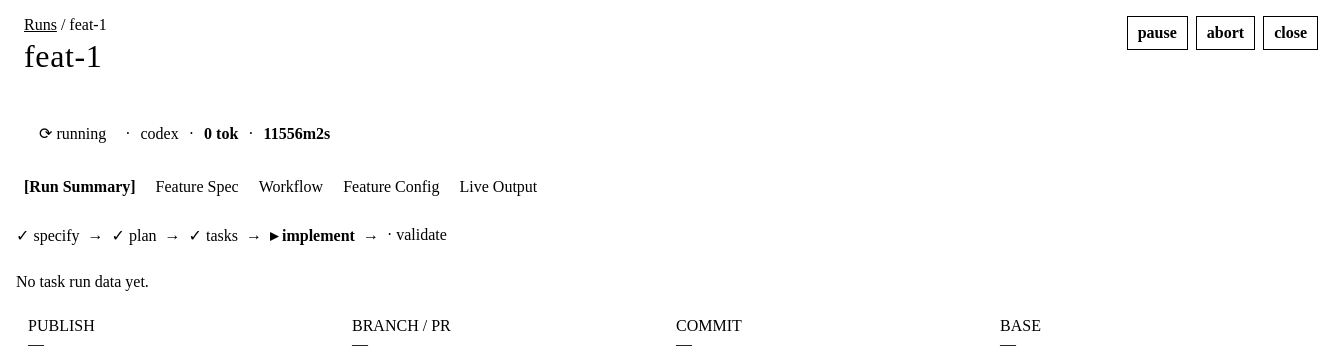
RunDetailPage heartbeat display › collapses a heartbeat with no activity suffix to a thinking… placeholder while running
Click the button "Live Output" at (498, 187), box [452, 172, 545, 202]
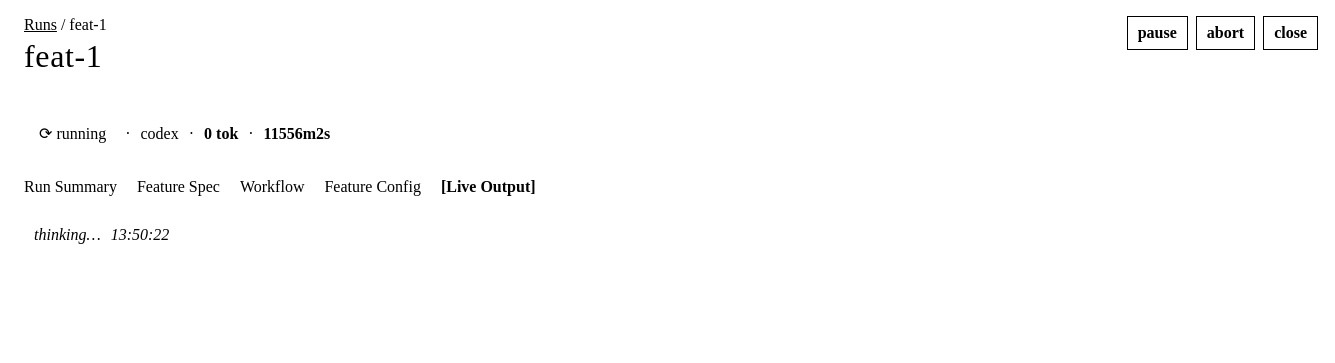
expect the text "thinking" is shown: met, box [34, 226, 101, 243]
